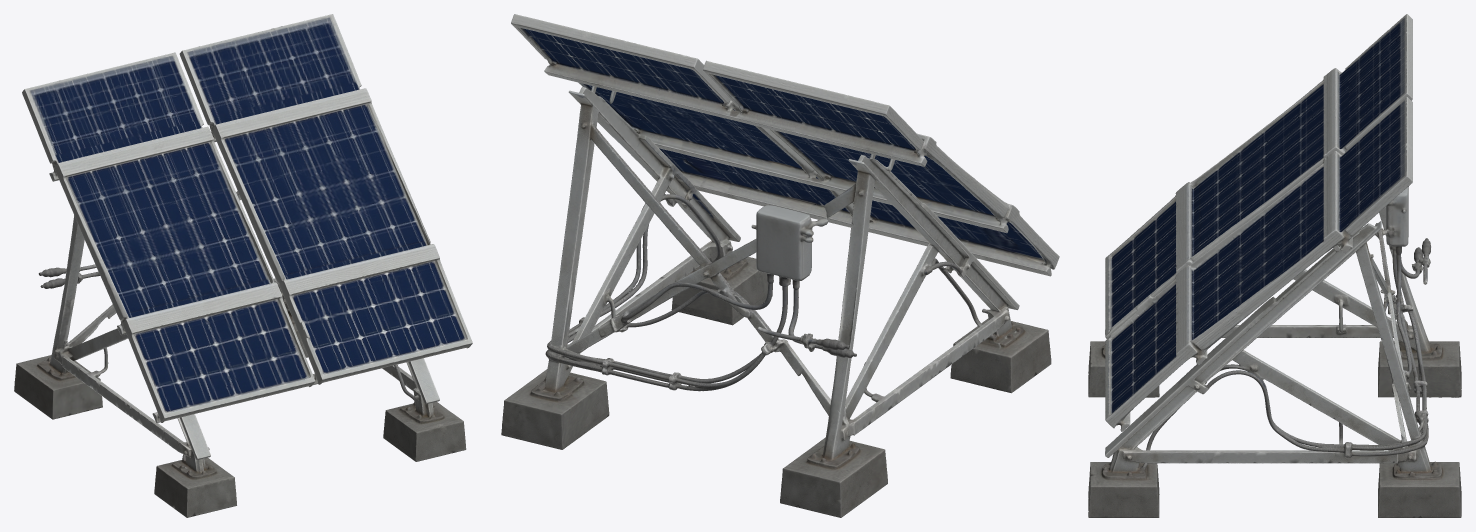
File: Meshy_AI_Solar_Sentinel_1024074828_texture.glb
3 views of the same model, side by side, from view 1: azimuth 30°, elevation 25°; view 2: azimuth 150°, elevation 25°; view 3: azimuth 270°, elevation 25° (orthographic). The views are drawn at different scales.
Size of the model in its own units: 1.9 by 1.9 by 1.84.
1 material, 1 textured.
